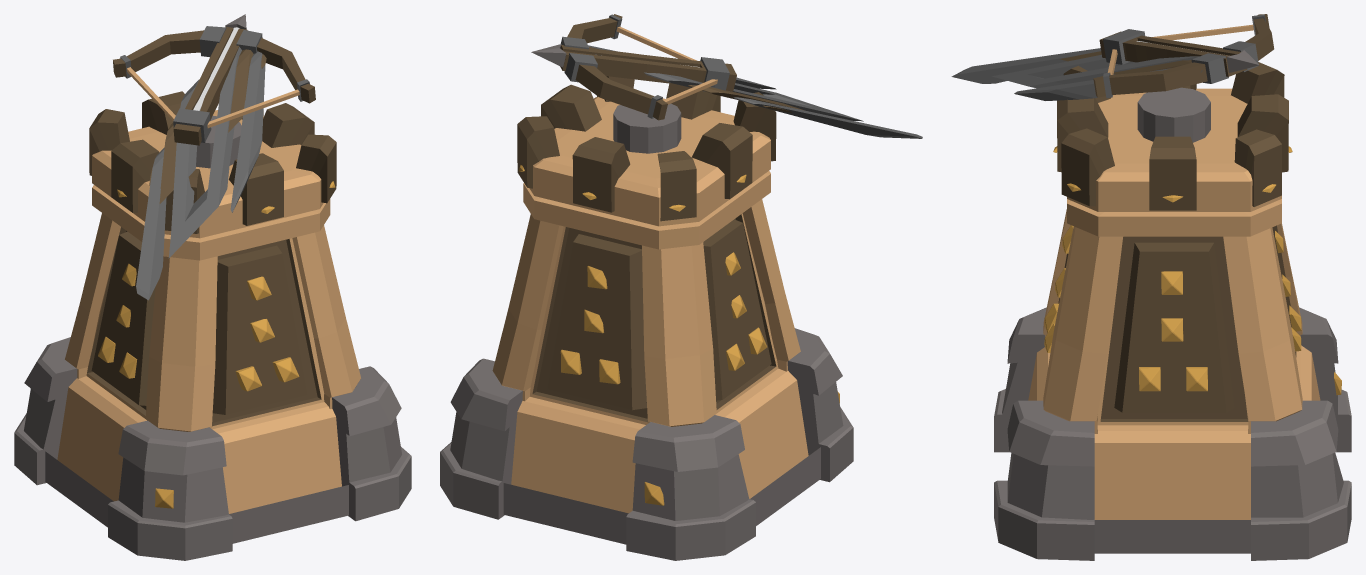
File: ArcherTower.fbx
3 views of the same model, side by side, from view 1: azimuth 30°, elevation 25°; view 2: azimuth 150°, elevation 25°; view 3: azimuth 270°, elevation 25° (orthographic). The views are drawn at different scales.
Visible parts, largest first — view 1: Cube, CornerMetal, Cube.026, Cube.021, Cube.001, Cube.023, Cube.022; view 2: Cube, CornerMetal, Cube.021, Cube.001, Cube.023, Cube.022, Cube.026; view 3: Cube, CornerMetal, Cube.021, Cube.026, Cube.001, Cube.023, Cube.022, Cube.014, Cube.015, Cube.013, Cube.012.
Part boxes in pixels (x1,y1,x2,y2): Cube: [57, 110, 341, 513]; CornerMetal: [14, 213, 411, 560]; Cube.026: [136, 47, 266, 300]; Cube.021: [89, 91, 336, 233]; Cube.001: [45, 451, 348, 543]; Cube.023: [113, 26, 315, 128]; Cube.022: [173, 26, 247, 145]; Cube: [511, 96, 808, 513]; CornerMetal: [440, 199, 853, 560]; Cube.021: [517, 76, 776, 221]; Cube.001: [503, 447, 820, 544]; Cube.023: [560, 14, 717, 120]; Cube.022: [560, 45, 736, 91]; Cube.026: [588, 45, 922, 138]; Cube: [1028, 87, 1320, 519]; CornerMetal: [994, 209, 1351, 560]; Cube.021: [1057, 62, 1288, 210]; Cube.026: [951, 48, 1202, 100]; Cube.001: [1094, 520, 1250, 553]; Cube.023: [1093, 14, 1274, 98]; Cube.022: [1099, 29, 1247, 76]; Cube.014: [1139, 367, 1160, 391]; Cube.015: [1186, 367, 1207, 391]; Cube.013: [1161, 318, 1183, 341]; Cube.012: [1161, 271, 1182, 294].
Size of the model in its own units: 210 by 270 by 213.
